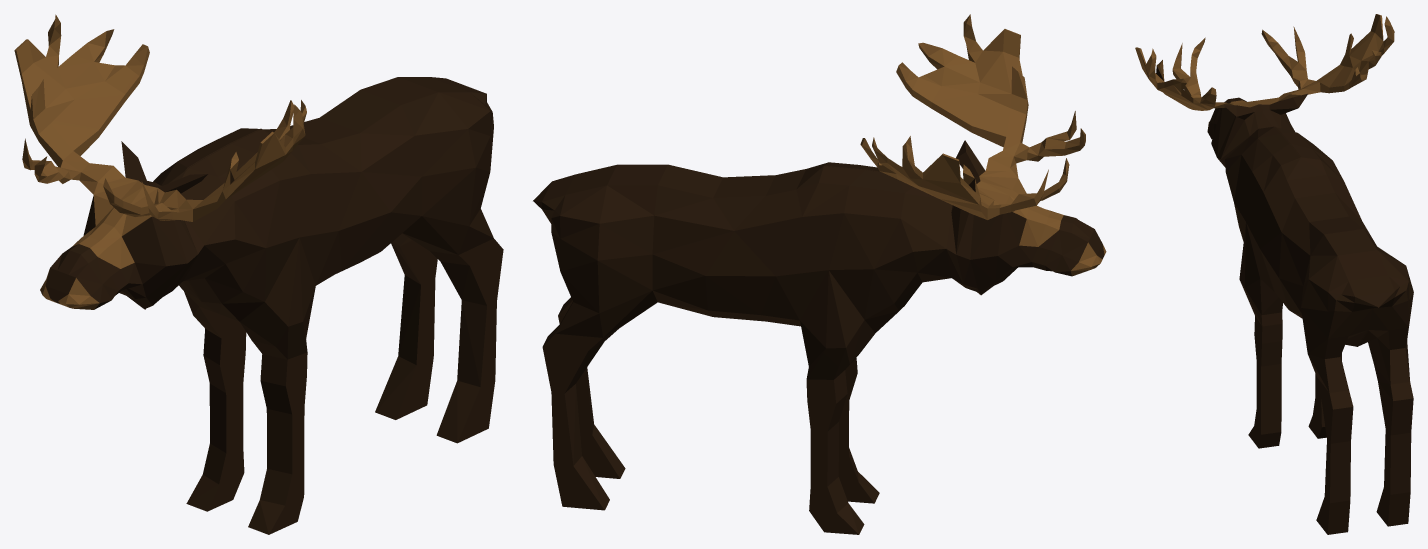
File: moose.fbx
3 renders of one model, left to right at view 1: azimuth 30°, elevation 25°; view 2: azimuth 150°, elevation 25°; view 3: azimuth 270°, elevation 25°, orthographic. The views are drawn at different scales.
Visible parts, largest first — view 1: moose; view 2: moose; view 3: moose.
Part boxes in pixels (<box>): moose: <box>14,14,503,534</box>; moose: <box>533,14,1106,534</box>; moose: <box>1135,14,1413,534</box>.
Bounding box in the file's own units: 1309 × 1152 × 780.
